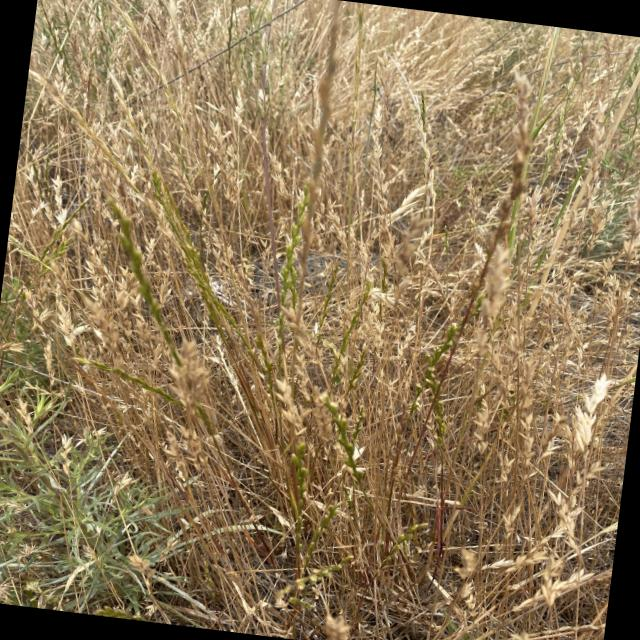Lolium: (93, 206, 206, 374), (258, 199, 312, 373), (89, 354, 191, 408), (279, 446, 326, 554)
